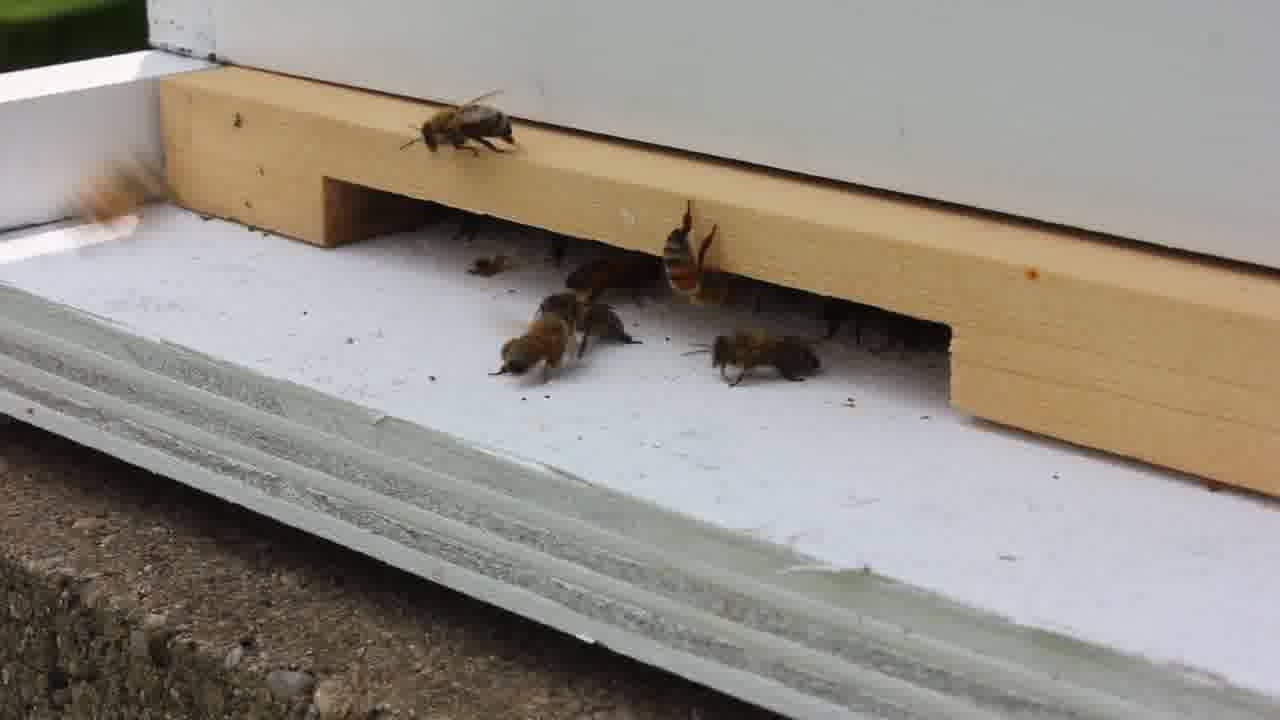pollen: (478, 316, 578, 382)
